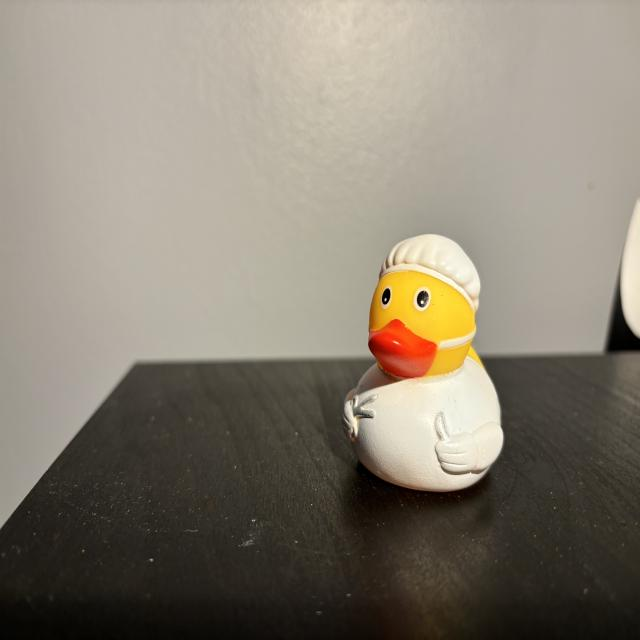duck_specialty: (345, 235, 505, 492)
